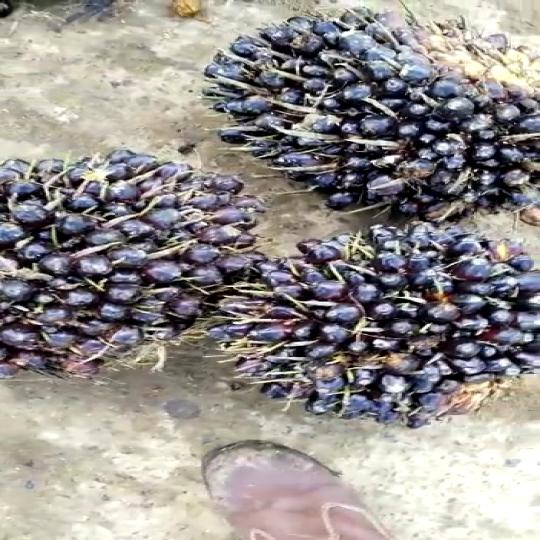mentah: (192, 4, 540, 231), (0, 123, 265, 390), (224, 230, 540, 444)
